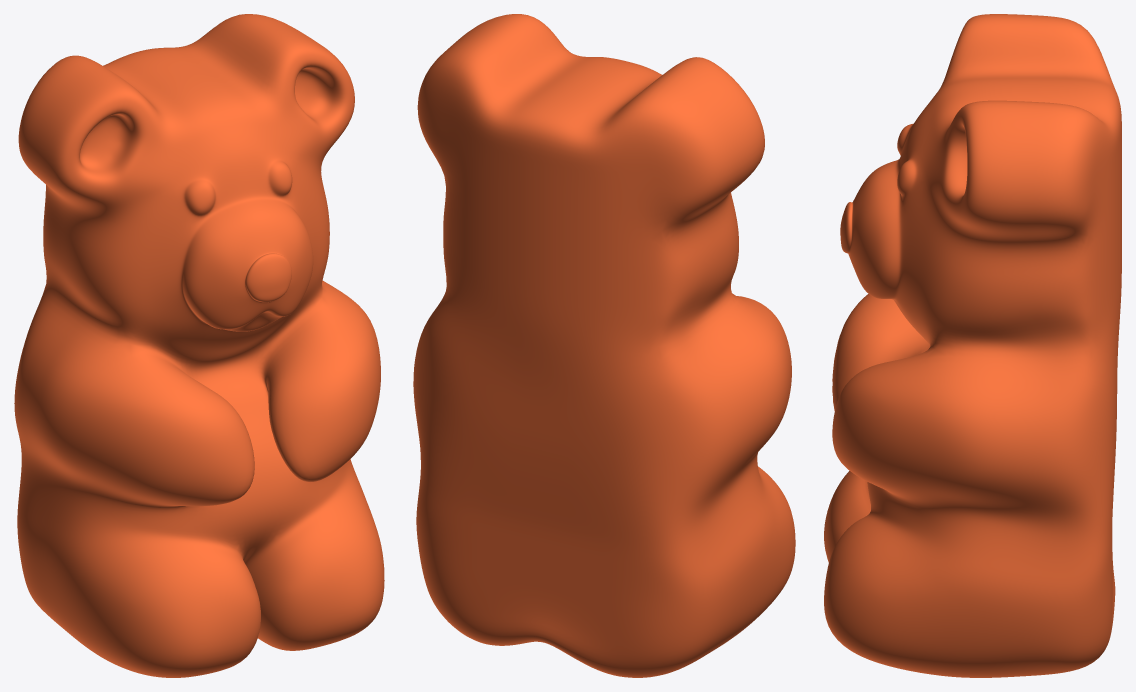
Rendered from GummyBear.fbx.
3 views of the same model, side by side, from view 1: azimuth 30°, elevation 25°; view 2: azimuth 150°, elevation 25°; view 3: azimuth 270°, elevation 25° (orthographic). The views are drawn at different scales.
Visible parts, largest first — view 1: orsetto; view 2: orsetto; view 3: orsetto.
Boxes of the visible parts, x1,y1,x2,y2 form: orsetto: (14,14,384,677); orsetto: (413,14,795,677); orsetto: (824,14,1121,677).
Bounding box in the file's own units: 92.67 × 157 × 73.8.
